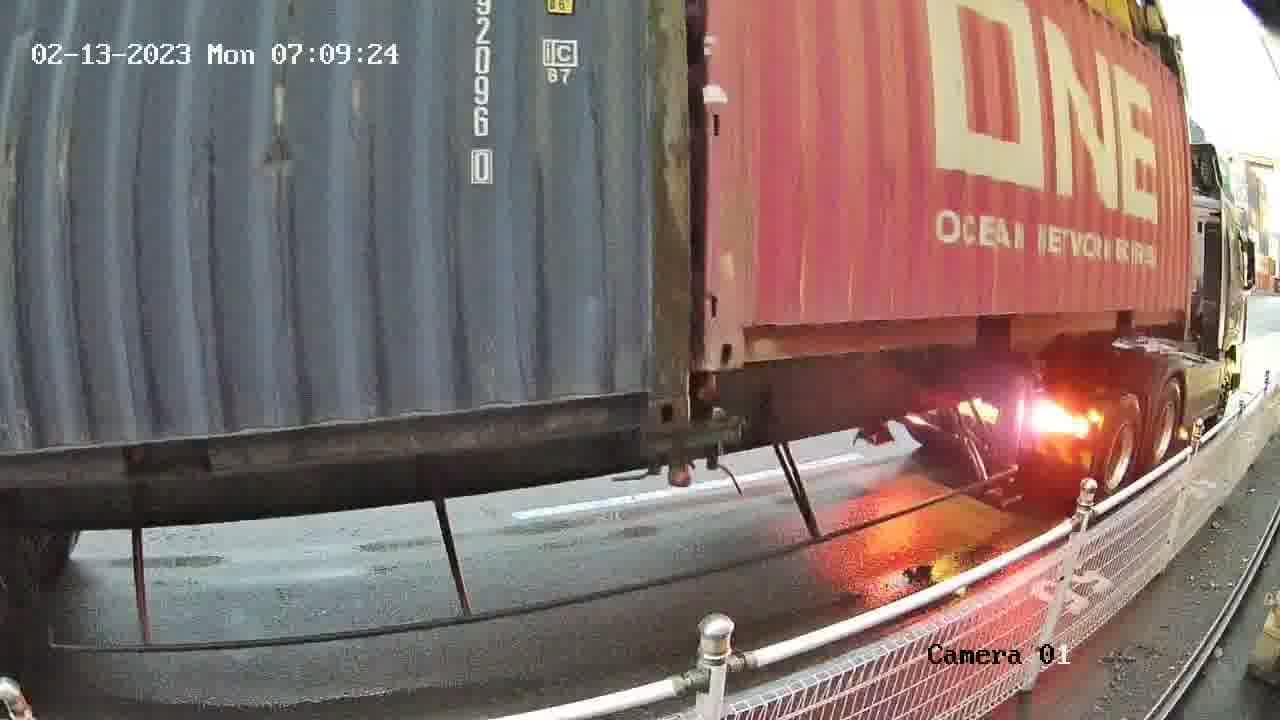Cone: (702, 408, 731, 478), (637, 430, 672, 481)
Hole_L: (706, 297, 781, 371)
Hole_R: (606, 356, 690, 432)
Tire: (1093, 397, 1144, 511), (1146, 381, 1181, 480)
